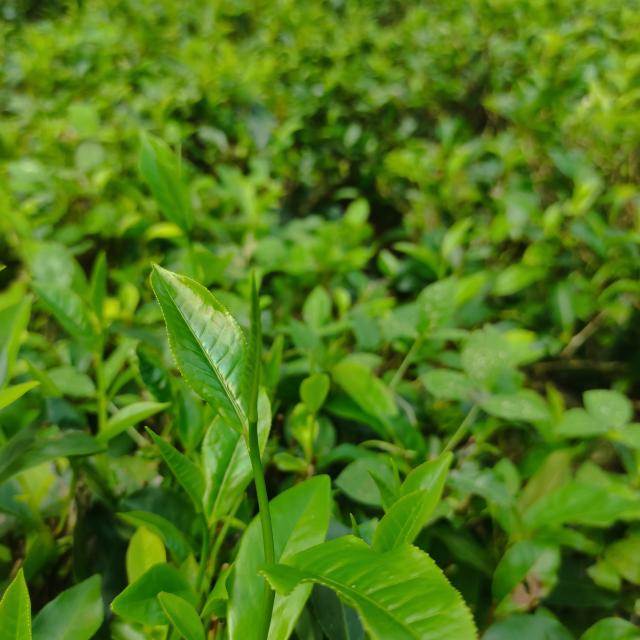unopened_leaf: (235, 260, 276, 438), (381, 452, 408, 500)
